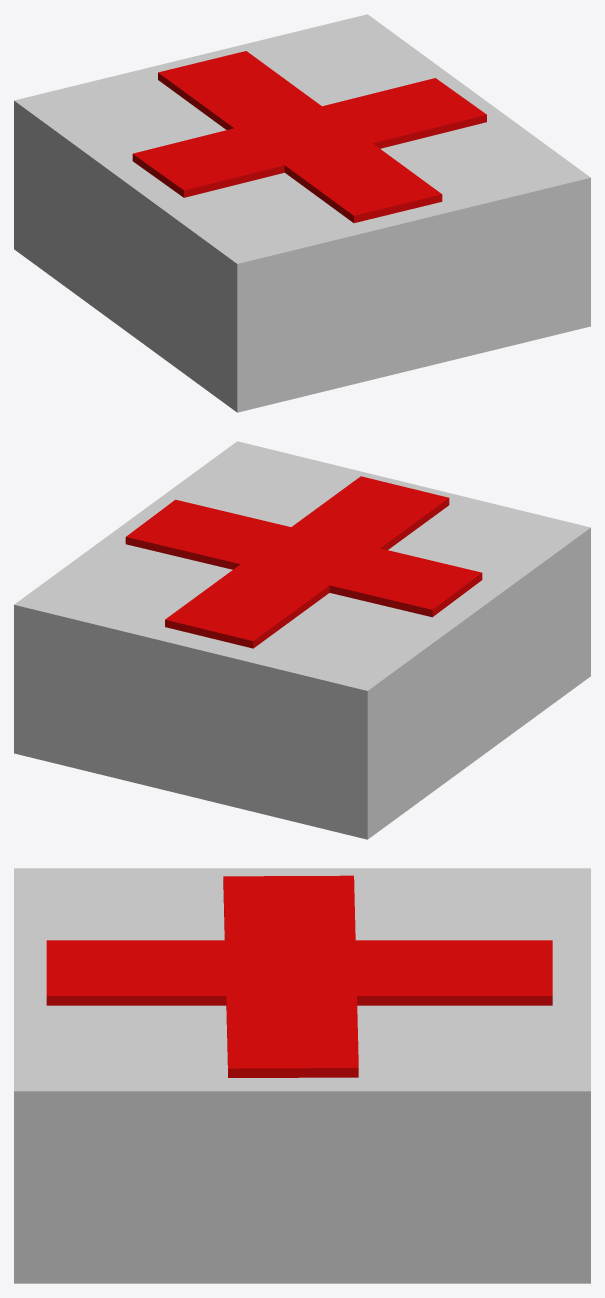
The model's file is HealthDrop.fbx.
3 renders of one model, top to bottom at view 1: azimuth 30°, elevation 25°; view 2: azimuth 150°, elevation 25°; view 3: azimuth 270°, elevation 25°, orthographic. The views are drawn at different scales.
Parts seen in each view (by area): view 1: pCube1, pCube3, pCube2; view 2: pCube1, pCube2, pCube3; view 3: pCube1, pCube2, pCube3.
Part boxes in pixels (box(x1,y1,x2,y2)): pCube1: box(14, 14, 590, 412); pCube3: box(132, 78, 486, 197); pCube2: box(158, 51, 442, 222); pCube1: box(14, 441, 590, 839); pCube2: box(165, 476, 449, 648); pCube3: box(125, 499, 482, 617); pCube1: box(14, 868, 590, 1283); pCube2: box(46, 940, 552, 1005); pCube3: box(223, 875, 358, 1077).
Bounding box in the file's own units: 0.9543 × 0.4027 × 1.04.
